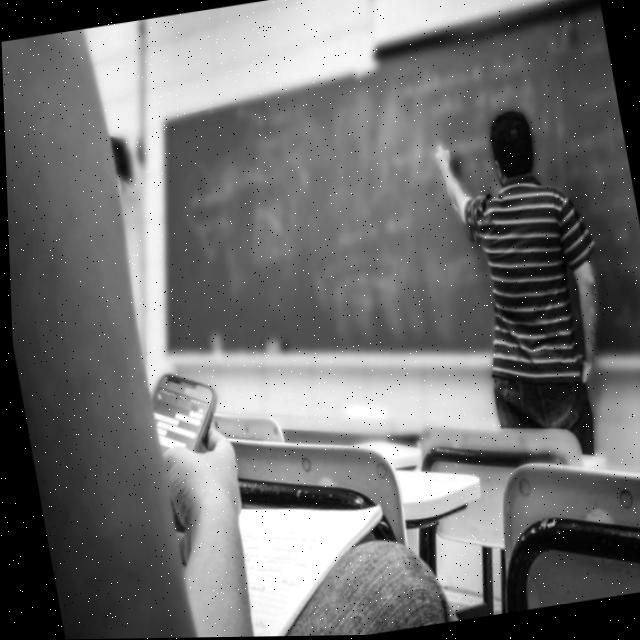phone: (135, 362, 228, 466)
